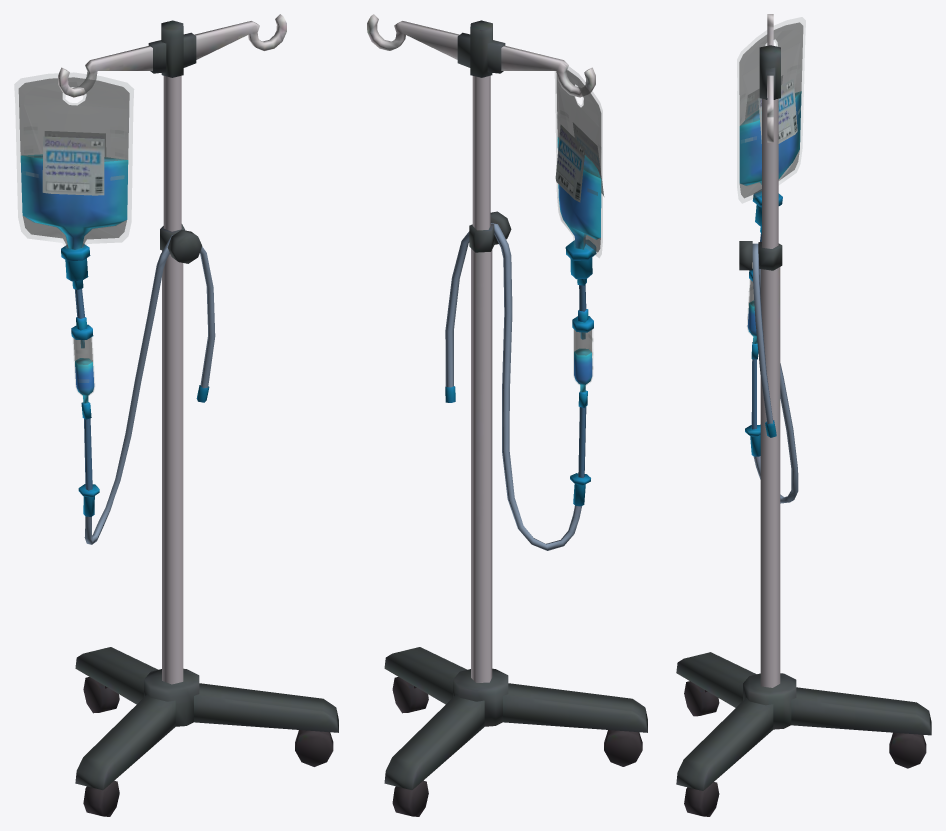
3 renders of one model, left to right at view 1: azimuth 30°, elevation 25°; view 2: azimuth 150°, elevation 25°; view 3: azimuth 270°, elevation 25°, orthographic. The views are drawn at different scales.
Bounding box in the file's own units: 6.78 × 17.59 × 5.7.
3 materials, 3 textured.
